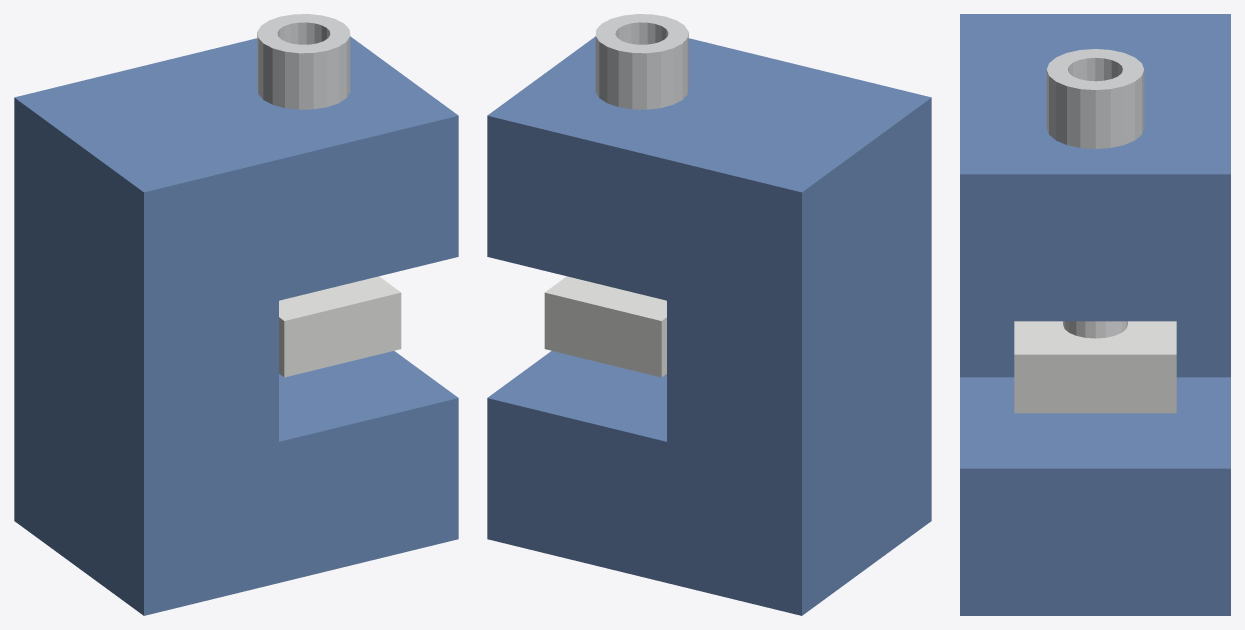
The model's file is clamp-sheet.glb.
3 renders of one model, left to right at view 1: azimuth 30°, elevation 25°; view 2: azimuth 150°, elevation 25°; view 3: azimuth 270°, elevation 25°, orthographic. The views are drawn at different scales.
Parts seen in each view (by area): view 1: body, jaw, port-cap; view 2: body, jaw, port-cap; view 3: body, jaw, port-cap.
Part boxes in pixels (bbox=[...]): body: bbox=[14, 36, 458, 615]; jaw: bbox=[279, 276, 401, 377]; port-cap: bbox=[257, 14, 350, 109]; body: bbox=[487, 36, 931, 615]; jaw: bbox=[544, 276, 666, 377]; port-cap: bbox=[595, 14, 688, 109]; body: bbox=[960, 14, 1230, 615]; jaw: bbox=[1014, 321, 1176, 413]; port-cap: bbox=[1046, 49, 1144, 148].
Size of what is drawn, in the model's own units: 0.07 by 0.102 by 0.05.
